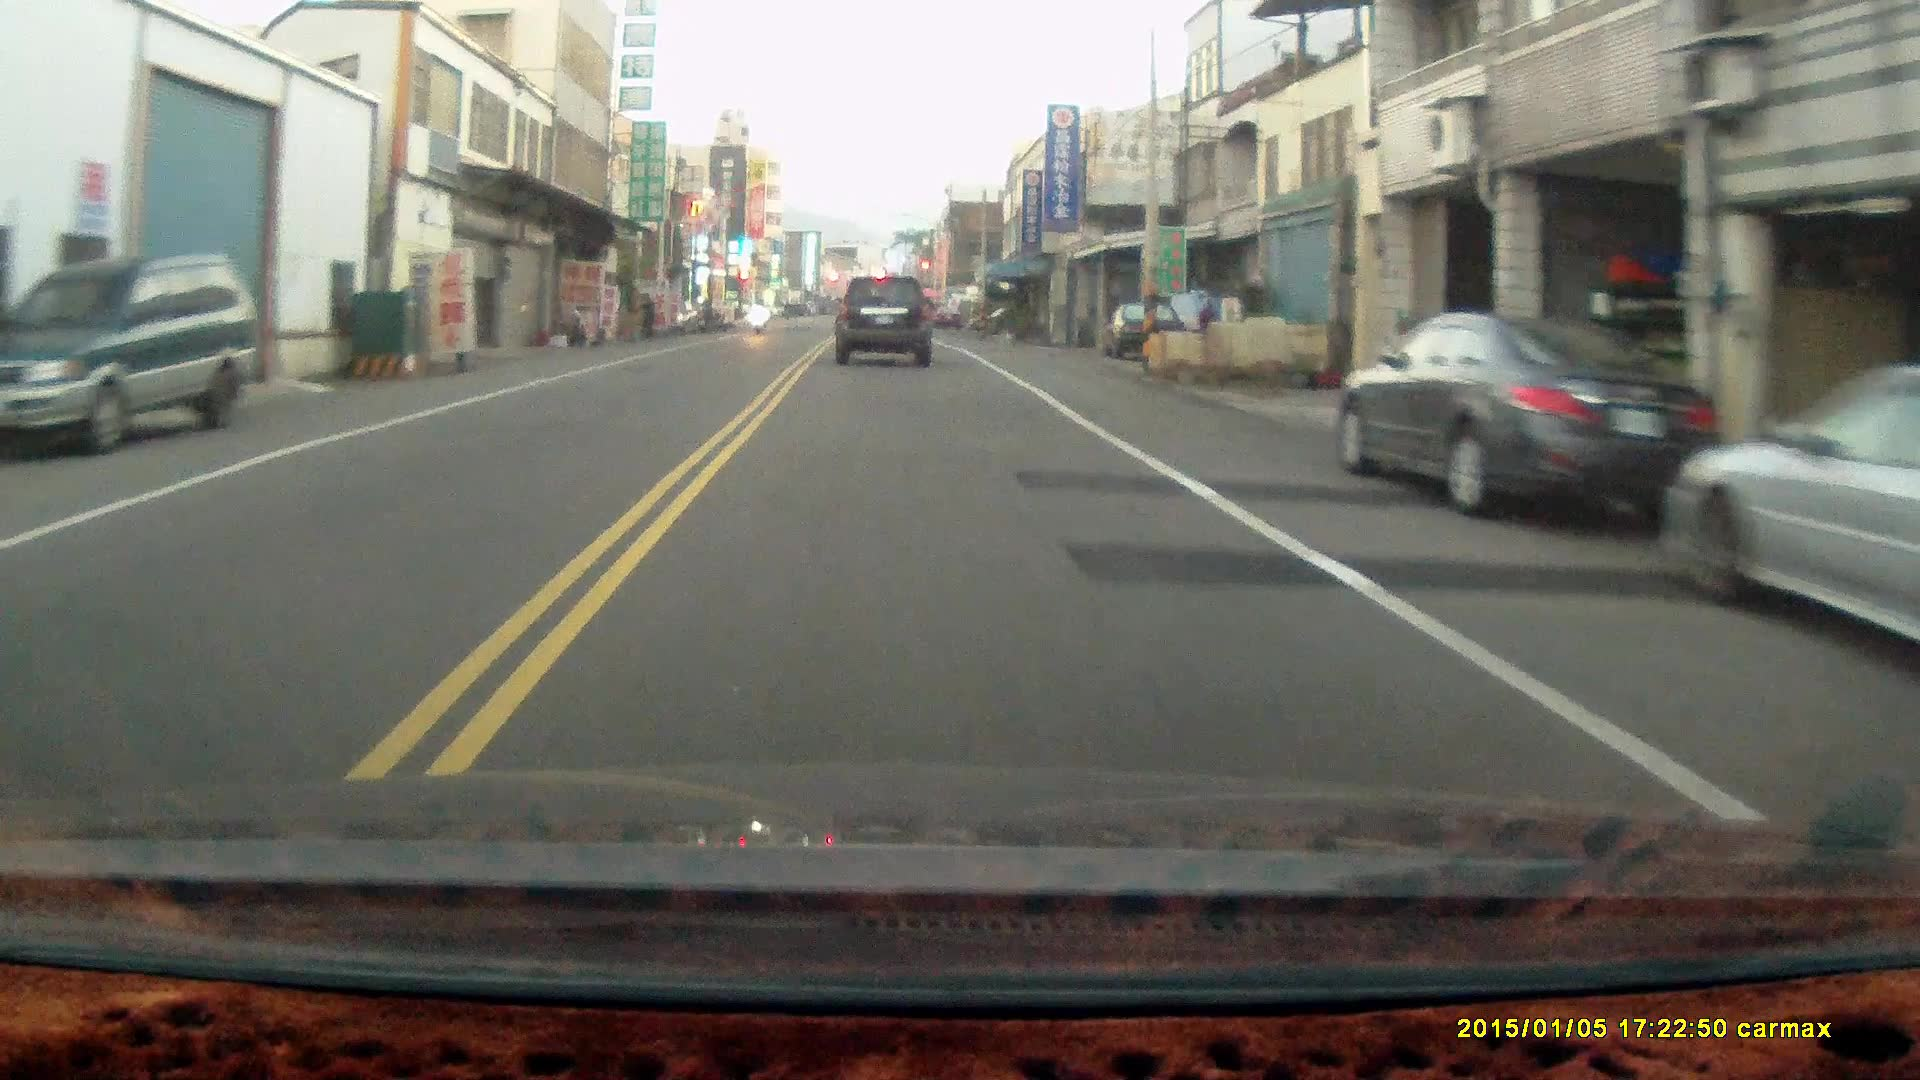pedestrian: (637, 288, 657, 336)
vehicle: (1336, 310, 1727, 520), (1659, 370, 1920, 682), (3, 247, 265, 451), (834, 272, 935, 366), (1103, 303, 1187, 361)
